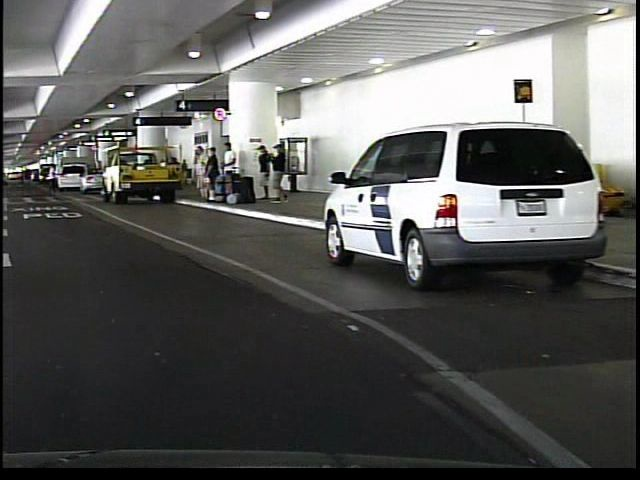person: (188, 141, 207, 203), (269, 142, 285, 206), (44, 162, 56, 194)
